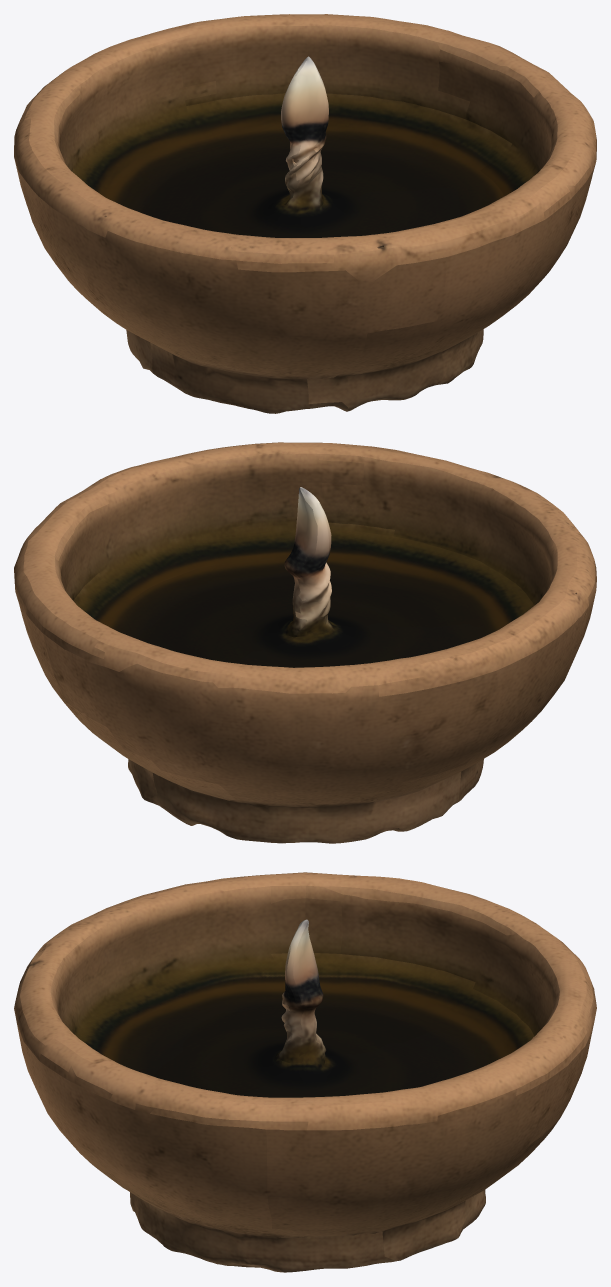
File: oil_lamp.glb
3 views of the same model, one above another, from view 1: azimuth 30°, elevation 25°; view 2: azimuth 150°, elevation 25°; view 3: azimuth 270°, elevation 25° (orthographic).
Parts seen in each view (by area): view 1: world; view 2: world; view 3: world.
Boxes of the visible parts, bbox=[...] form: world: bbox=[14, 14, 596, 413]; world: bbox=[14, 442, 596, 843]; world: bbox=[14, 872, 596, 1272].
Size of the model in its own units: 0.18 by 0.0973 by 0.1796.
1 material, 1 textured.
